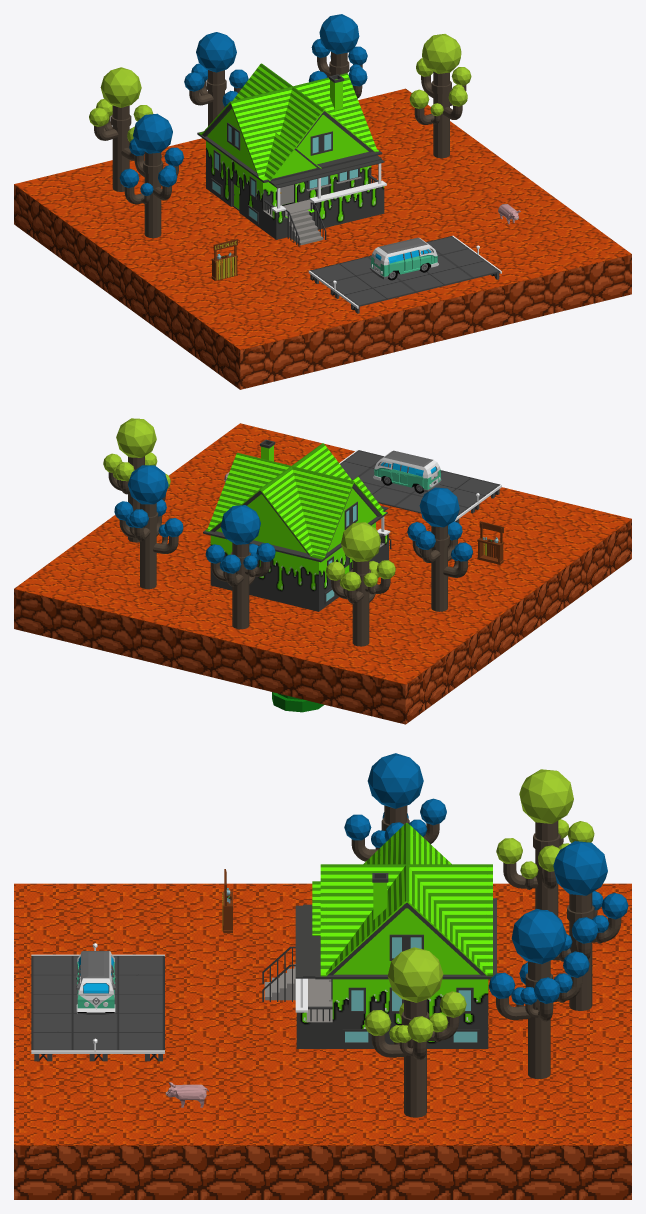
3 renders of one model, top to bottom at view 1: azimuth 30°, elevation 25°; view 2: azimuth 150°, elevation 25°; view 3: azimuth 270°, elevation 25°, orthographic. The views are drawn at different scales.
Visible parts, largest first — view 1: Cube.001, Cube.754, VEHICLES_VAN, OBJRANDOM_LEMONADE_STAND; view 2: Cube.001, Cube.754, VEHICLES_VAN, OBJRANDOM_LEMONADE_STAND, UNDERGROUND_PIPES; view 3: Cube.001, Cube.754, VEHICLES_VAN, ANIMAL_CERDO.
Part boxes in pixels (x1,y1,x2,y2): Cube.001: (14,14,631,389); Cube.754: (197,63,386,246); VEHICLES_VAN: (369,237,438,280); OBJRANDOM_LEMONADE_STAND: (211,239,237,280); Cube.001: (14,418,631,724); Cube.754: (203,439,391,611); VEHICLES_VAN: (373,450,442,493); OBJRANDOM_LEMONADE_STAND: (477,521,503,564); UNDERGROUND_PIPES: (272,692,324,712); Cube.001: (14,753,631,1199); Cube.754: (262,823,496,1048); VEHICLES_VAN: (76,951,116,1014); ANIMAL_CERDO: (165,1082,208,1107).
Size of the model in its own units: 4000 by 2247 by 4000.
38 materials, 5 textured.
